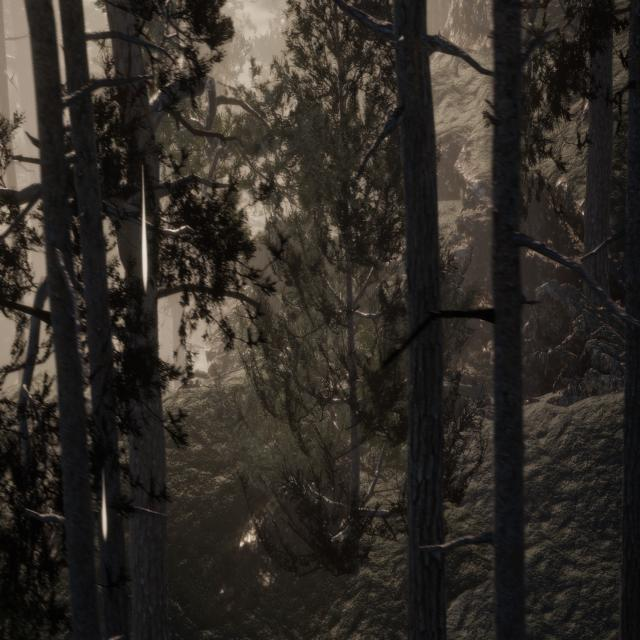Human: (328, 362, 350, 455)
